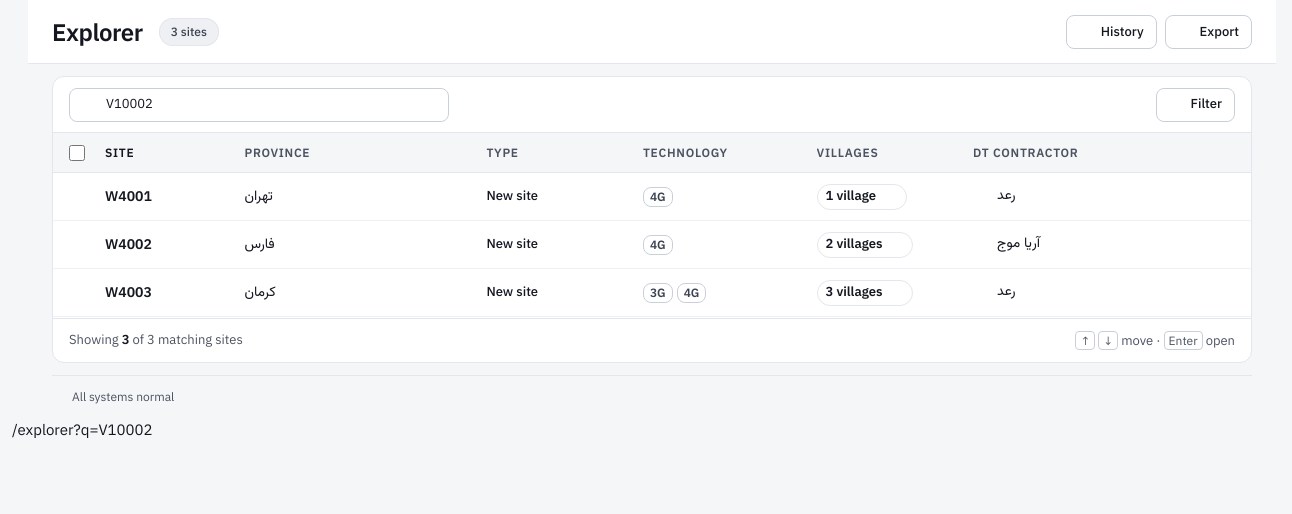
Test case: Explorer list: rows › highlights the village a search matched, and links the record to it
Step 1. Click the button with aria-label "villages of W4002" → (865, 244), box [816, 232, 913, 258]
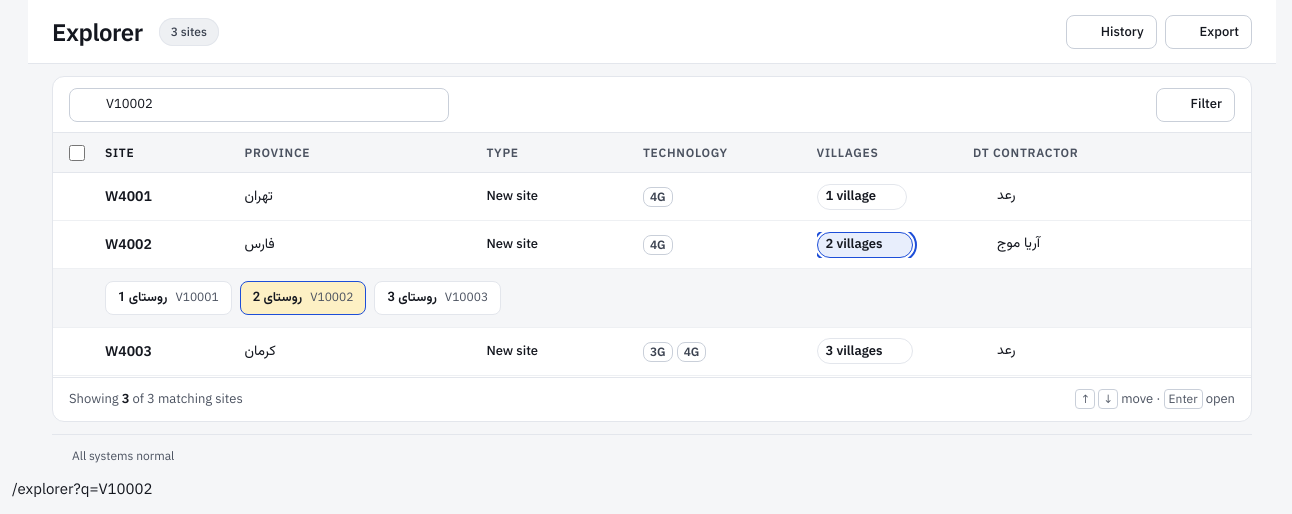
Result: the list item with class "is-match" shows "V10002" at [310, 289, 353, 304]
